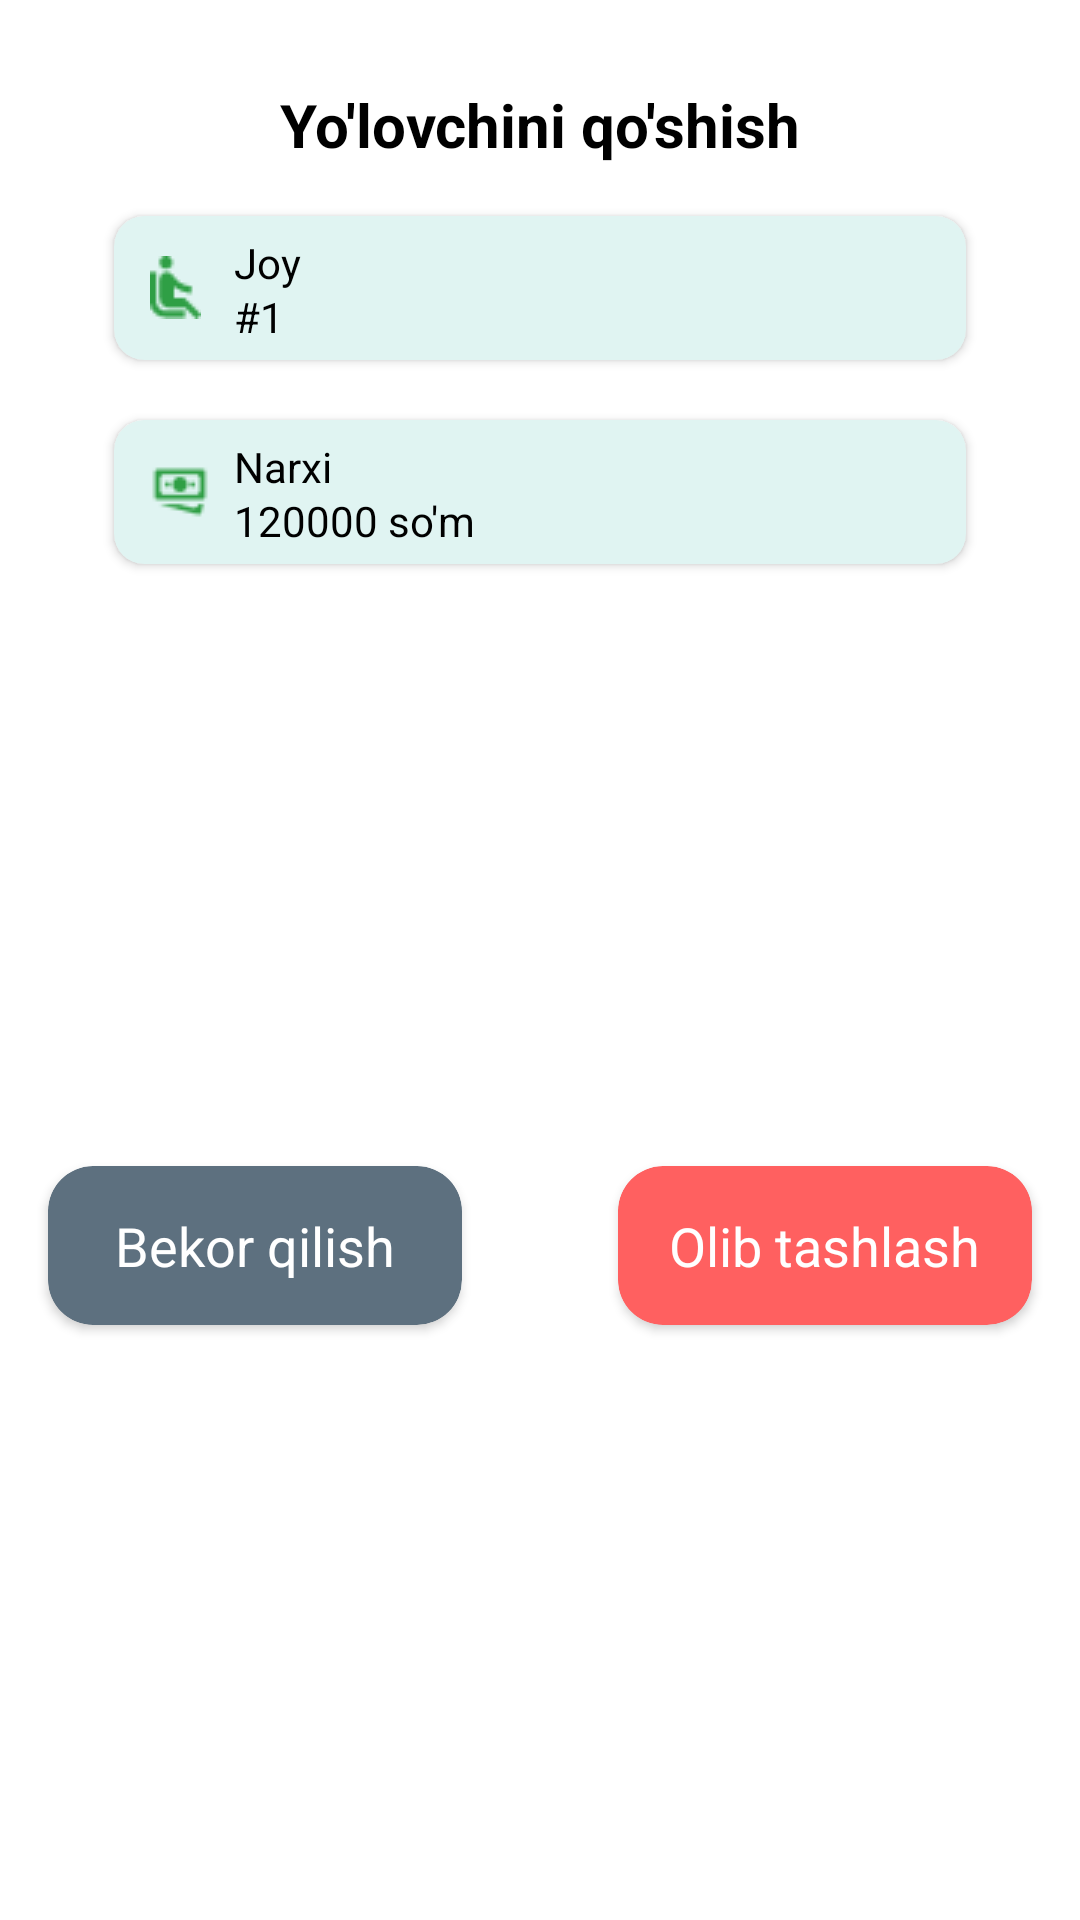

Point at icon controls on the screen. Image size 1080x1920, points as point (x, y).
money: point (180, 491)
sit: point (175, 287)
